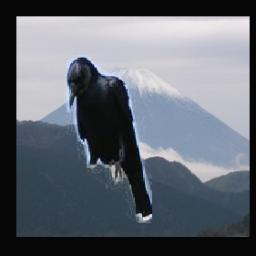Crow: (65, 56, 152, 224)
